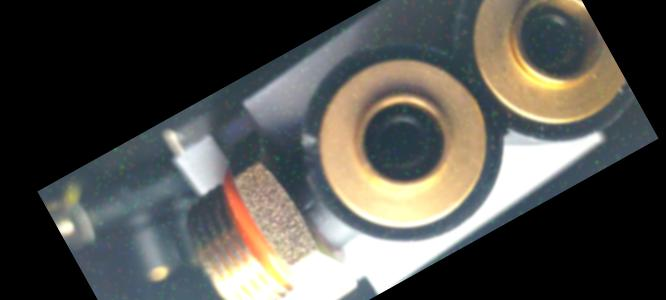bump: (285, 125, 330, 176)
white mark: (295, 196, 320, 218)
